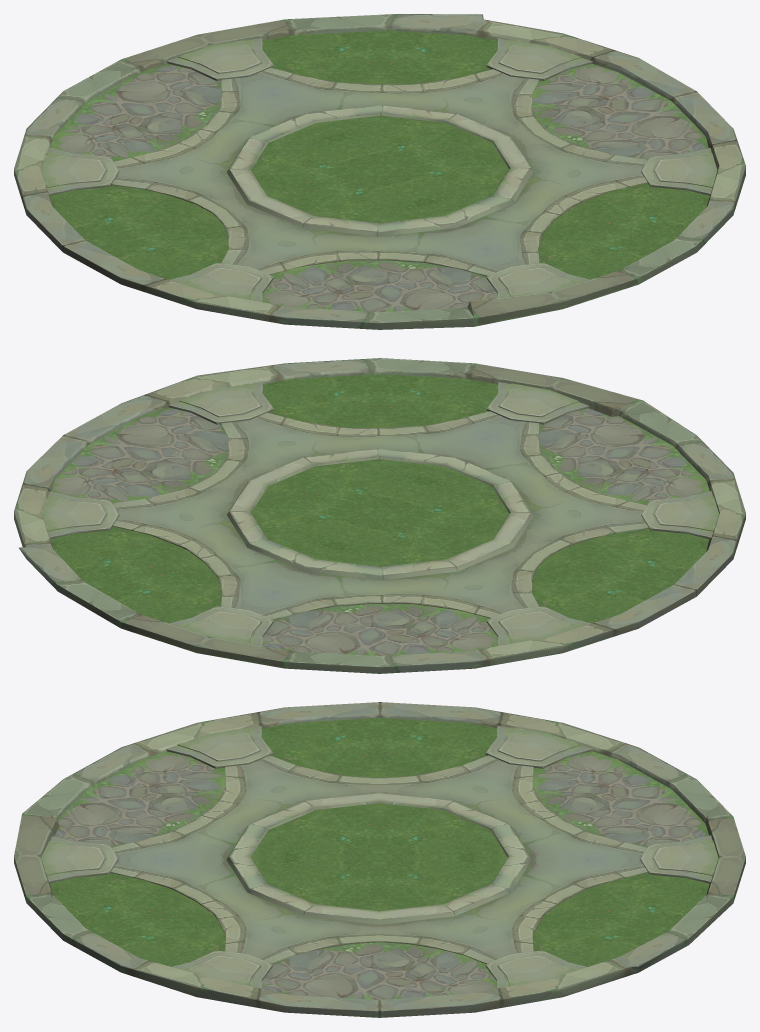
Rendered from Map_04_platform01.FBX.
The picture shows the model from 3 angles, top to bottom: view 1: azimuth 30°, elevation 25°; view 2: azimuth 150°, elevation 25°; view 3: azimuth 270°, elevation 25°; orthographic projection.
Visible parts, largest first — view 1: Map_04_platform01; view 2: Map_04_platform01; view 3: Map_04_platform01.
Boxes of the visible parts, x1=… form: Map_04_platform01: x1=14, y1=14, x2=745, y2=329; Map_04_platform01: x1=14, y1=358, x2=745, y2=673; Map_04_platform01: x1=14, y1=702, x2=745, y2=1017.
Bounding box in the file's own units: 128 × 2.85 × 128.
